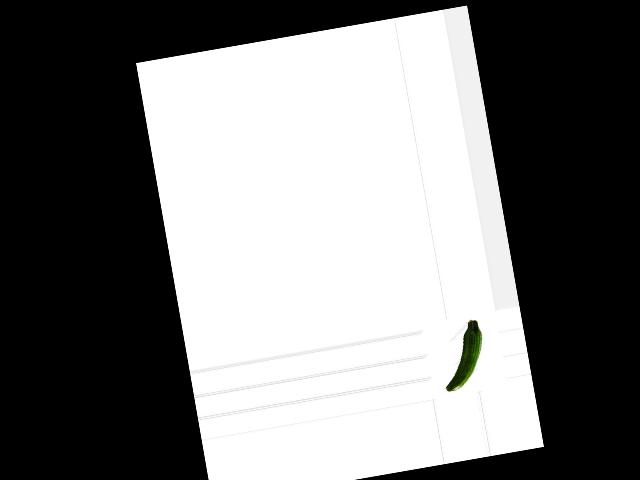cucumber: (434, 318, 490, 392)
